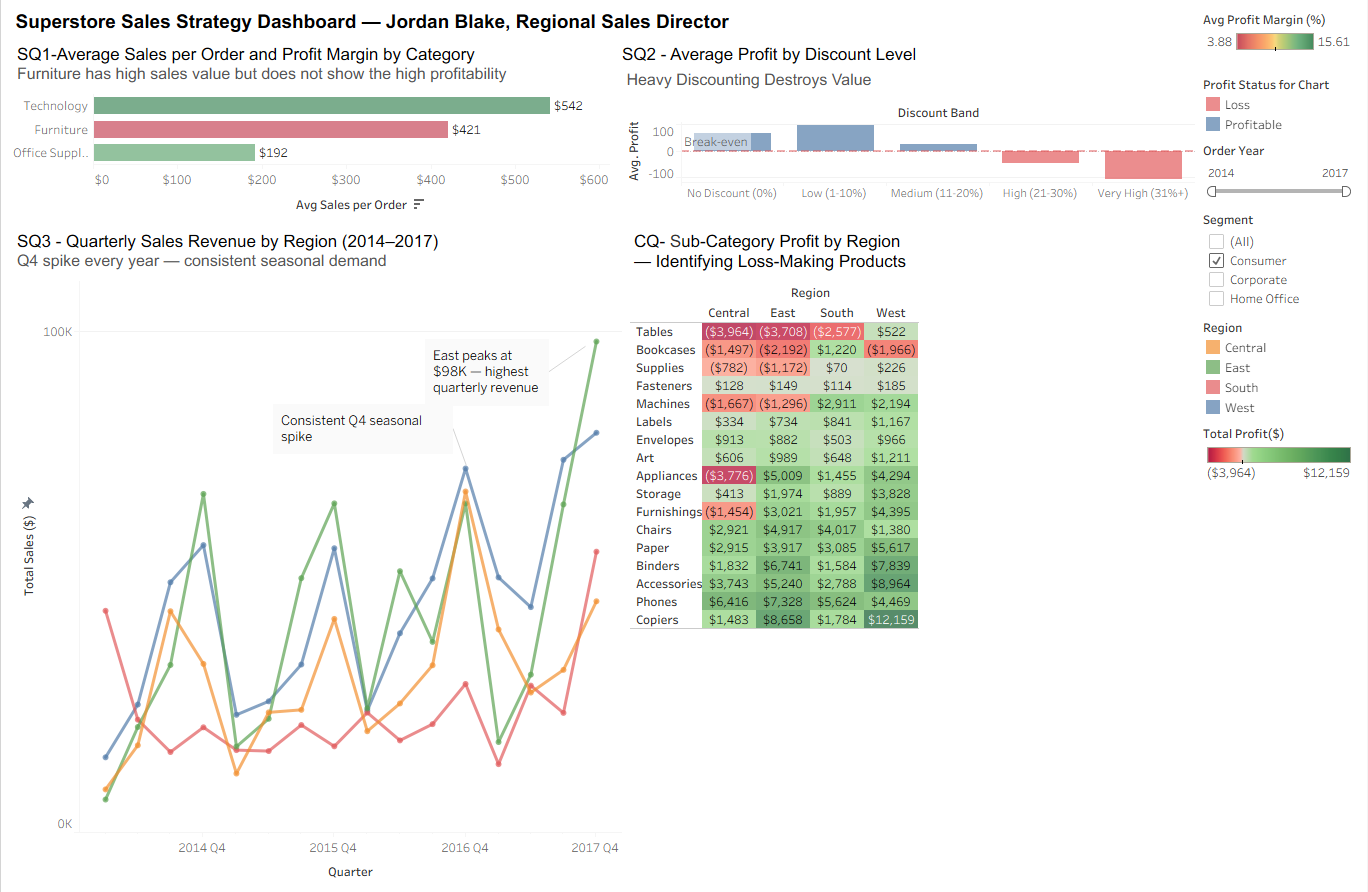

This screenshot's page, from the dashboard's own definition file:
{"tool":"tableau","page":{"name":"Dashboard ","canvas":[1366,900],"ordinal":0},"visuals":[{"type":"title","box":[8,8,1190,30]},{"type":"legend","title":"SQ1-Average Sales per Order and Profit Margin by Category","param":"[federated.1bte7bx13h0tcm13kr8rp18lri0t].[avg:profit_margin:qk]","box":[1198,8,160,65]},{"type":"worksheet","title":"SQ1-Average Sales per Order and Profit Margin by Category","mark":"Bar","rows":["Category"],"cols":["Calculation_1042395335024640"],"box":[8,38,605,187]},{"type":"worksheet","title":"SQ2-Discount Vs Profit-2","mark":"Bar","rows":["Profit"],"cols":["discount_band"],"box":[613,38,585,187]},{"type":"legend","title":"SQ2-Discount Vs Profit-2","param":"[federated.1bte7bx13h0tcm13kr8rp18lri0t].[usr:Calculation_1042395412652035:nk]","box":[1198,73,160,66]},{"type":"filter","title":"CQ-Profit Heatmap","param":"[federated.1bte7bx13h0tcm13kr8rp18lri0t].[none:order_year:qk]","box":[1198,139,160,69]},{"type":"filter","title":"CQ-Profit Heatmap","param":"[federated.1bte7bx13h0tcm13kr8rp18lri0t].[none:Segment:nk]","box":[1198,208,160,108]},{"type":"worksheet","title":"SQ3 - Quarterly Sales Revenue by Region (2014–2017)","mark":"Automatic","rows":["Sales"],"cols":["Order.Date"],"box":[8,225,617,667]},{"type":"worksheet","title":"CQ-Profit Heatmap","mark":"Square","rows":["Sub.Category"],"cols":["Region"],"box":[625,225,573,667]},{"type":"legend","title":"SQ3 - Quarterly Sales Revenue by Region (2014–2017)","param":"[federated.1bte7bx13h0tcm13kr8rp18lri0t].[none:Region:nk]","box":[1198,316,160,106]},{"type":"legend","title":"CQ-Profit Heatmap","param":"[federated.1bte7bx13h0tcm13kr8rp18lri0t].[sum:Profit:qk]","box":[1198,422,160,65]}]}

Visuals, with their boxes in screenshot pixels (x1, y1, x2, y2), scaled from the page's 1366x900 canvas onto the 1368x892 screenshot:
title: locate(8, 8, 1200, 38)
"SQ1-Average Sales per Order and Profit Margin by Category" legend: locate(1200, 8, 1360, 72)
"SQ1-Average Sales per Order and Profit Margin by Category" worksheet (Bar marks): locate(8, 38, 614, 223)
"SQ2-Discount Vs Profit-2" worksheet (Bar marks): locate(614, 38, 1200, 223)
"SQ2-Discount Vs Profit-2" legend: locate(1200, 72, 1360, 138)
"CQ-Profit Heatmap" filter: locate(1200, 138, 1360, 206)
"CQ-Profit Heatmap" filter: locate(1200, 206, 1360, 313)
"SQ3 - Quarterly Sales Revenue by Region (2014–2017)" worksheet: locate(8, 223, 626, 884)
"CQ-Profit Heatmap" worksheet (Square marks): locate(626, 223, 1200, 884)
"SQ3 - Quarterly Sales Revenue by Region (2014–2017)" legend: locate(1200, 313, 1360, 418)
"CQ-Profit Heatmap" legend: locate(1200, 418, 1360, 483)
